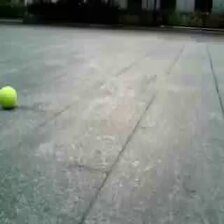tennis: (1, 87, 17, 110)
